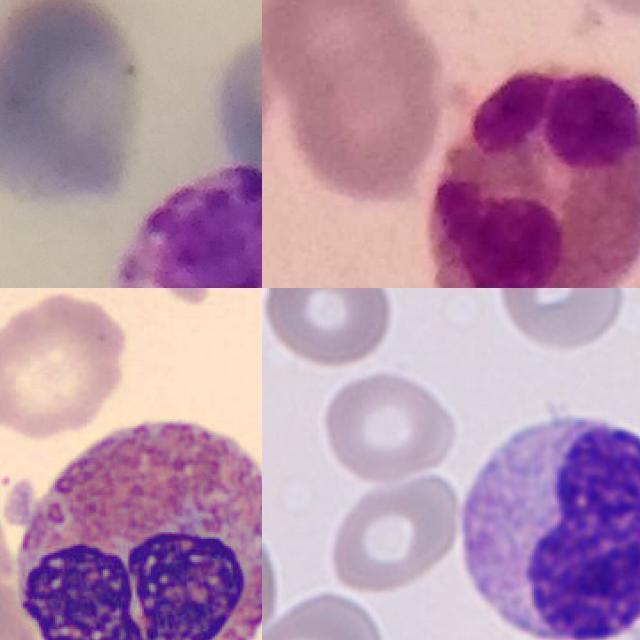Basophil: (113, 160, 262, 288)
Eosinophil: (3, 398, 262, 640), (428, 65, 640, 288)
Lymphocyte: (449, 397, 640, 640)
RBC: (0, 288, 129, 440), (326, 466, 465, 596), (316, 368, 460, 484), (262, 288, 399, 368), (495, 288, 630, 352), (263, 587, 388, 640), (262, 509, 285, 640), (92, 288, 255, 304), (262, 288, 276, 320)
